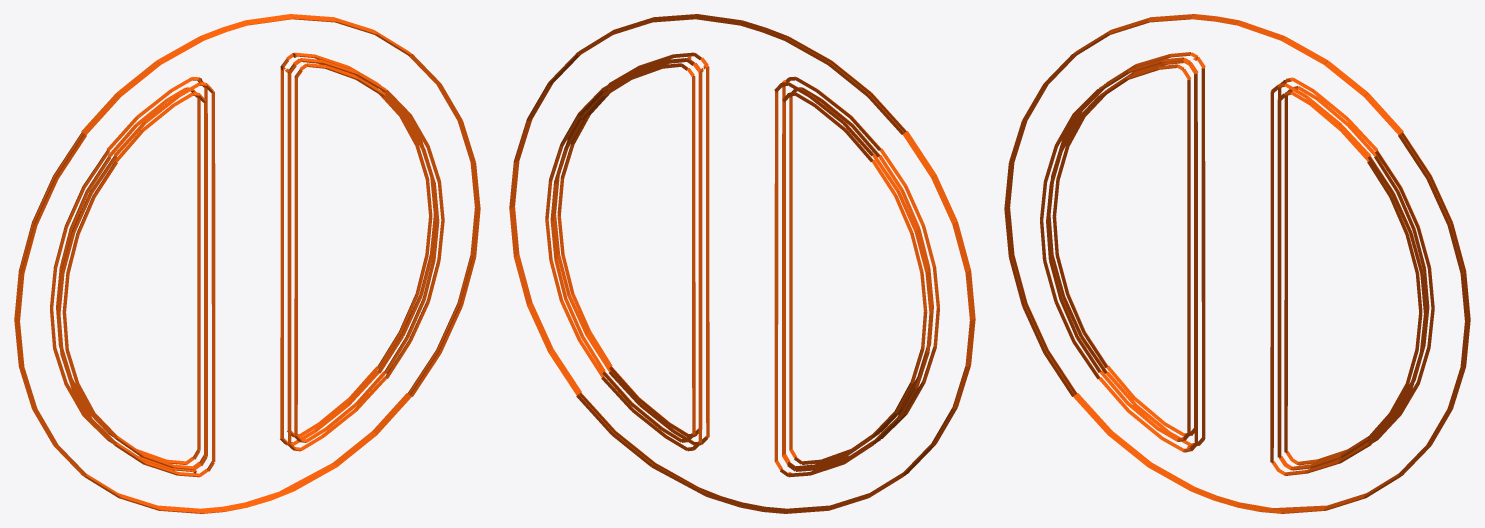
Rendered from VIS_INIT.obj.
3 renders of one model, left to right at view 1: azimuth 30°, elevation 25°; view 2: azimuth 150°, elevation 25°; view 3: azimuth 330°, elevation 25°, orthographic.
Bounding box in the file's own units: 556 × 556 × 20.15.
